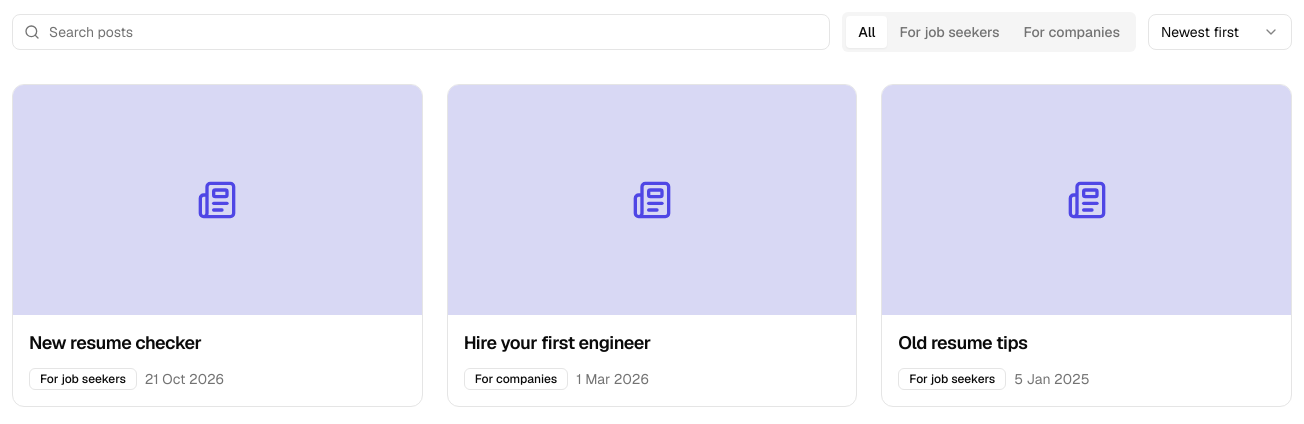
Test: BlogPostList › filters by type and clears
Click the tab "For companies".
click(1072, 32)  # box 1012,16 -> 1132,48
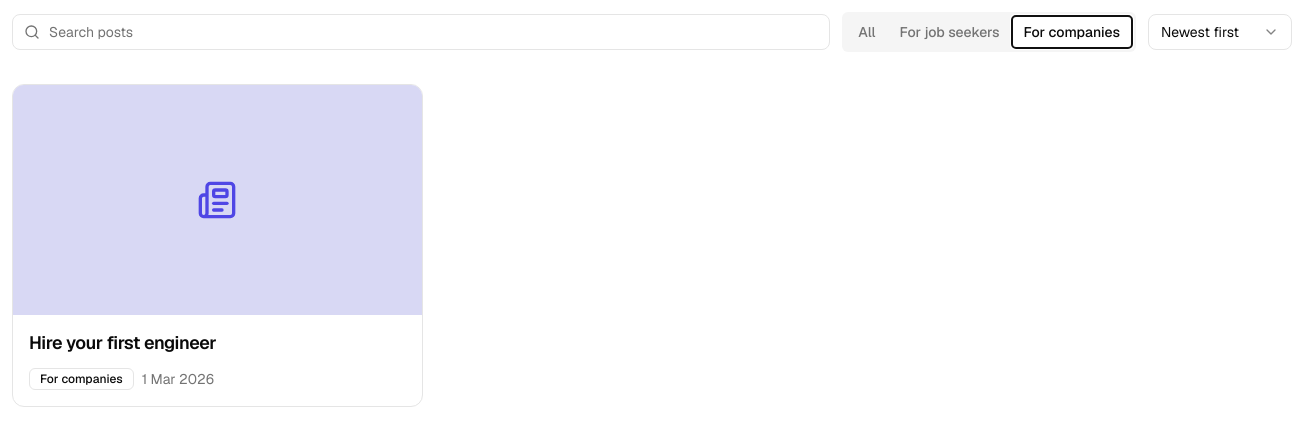
Type "resume" into the search field labelled "Search posts".
click(421, 32); type("resume")  # box 12,14 -> 830,50
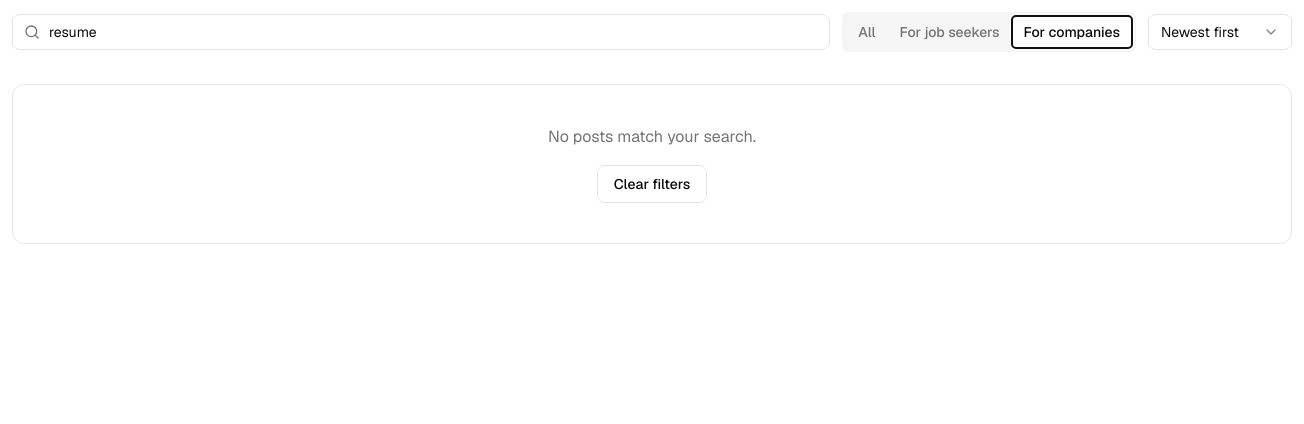
Expected: the text "No posts match your search." is shown, 548,126 -> 756,147
Click the button "Clear filters".
click(652, 184)  # box 597,165 -> 707,203
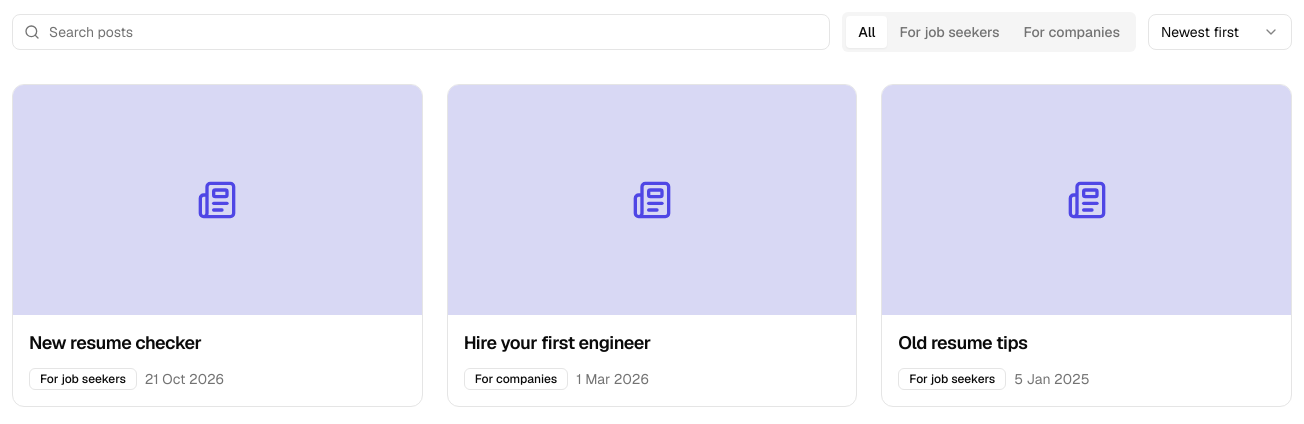
Expected: the number of headings is 3, 29,331 -> 202,354; 464,331 -> 651,354; 898,331 -> 1028,354
